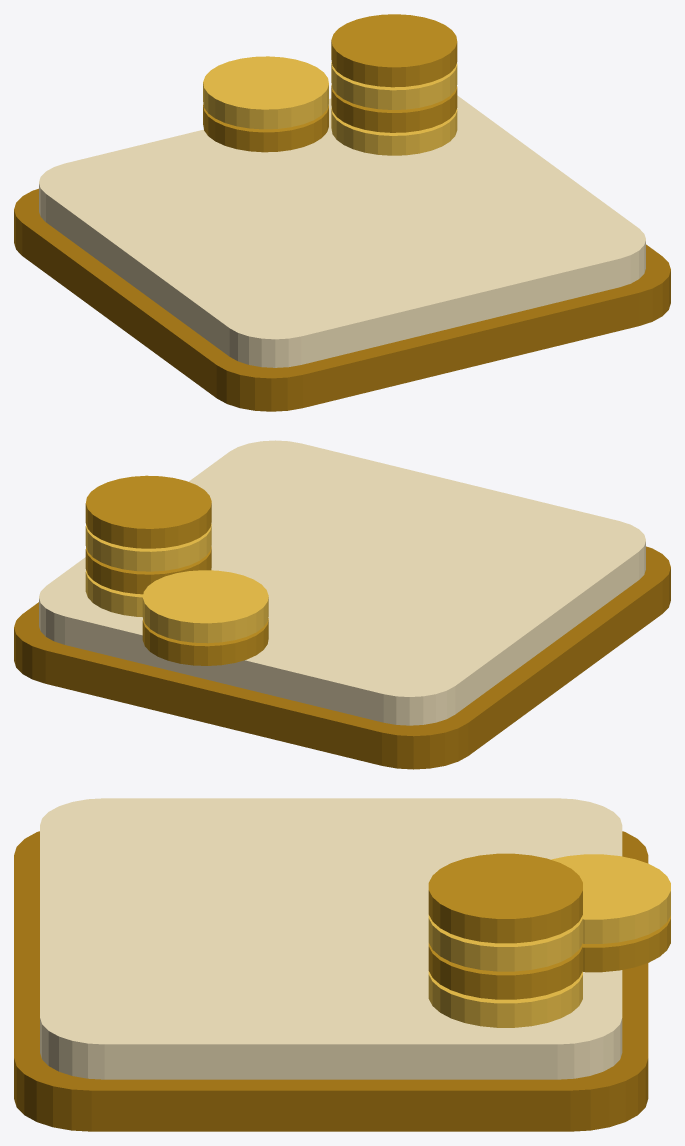
Rendered from tile_salary.glb.
The picture shows the model from 3 angles, top to bottom: view 1: azimuth 30°, elevation 25°; view 2: azimuth 150°, elevation 25°; view 3: azimuth 270°, elevation 25°; orthographic projection. The views are drawn at different scales.
Visible parts, largest first — view 1: base, plinth, prop_coin_3, prop_coin_b1, prop_coin_0, prop_coin_1, prop_coin_2, prop_coin_b0; view 2: base, plinth, prop_coin_b1, prop_coin_3, prop_coin_2, prop_coin_b0, prop_coin_1, prop_coin_0; view 3: base, plinth, prop_coin_3, prop_coin_b1, prop_coin_0, prop_coin_1, prop_coin_2, prop_coin_b0.
Part boxes in pixels (x1,y1,x2,y2): base: [39, 95, 645, 367]; plinth: [14, 188, 670, 411]; prop_coin_3: [331, 14, 457, 87]; prop_coin_b1: [203, 56, 328, 129]; prop_coin_0: [331, 108, 457, 155]; prop_coin_1: [331, 85, 457, 132]; prop_coin_2: [331, 62, 457, 109]; prop_coin_b0: [203, 104, 328, 152]; base: [39, 440, 645, 725]; plinth: [14, 546, 670, 769]; prop_coin_b1: [142, 570, 268, 643]; prop_coin_3: [85, 475, 211, 548]; prop_coin_2: [85, 524, 211, 571]; prop_coin_b0: [142, 618, 268, 665]; prop_coin_1: [85, 546, 211, 594]; prop_coin_0: [85, 569, 211, 616]; base: [40, 798, 622, 1079]; plinth: [14, 831, 648, 1131]; prop_coin_3: [428, 853, 582, 943]; prop_coin_b1: [551, 854, 670, 943]; prop_coin_0: [428, 971, 582, 1027]; prop_coin_1: [428, 943, 582, 999]; prop_coin_2: [428, 915, 582, 971]; prop_coin_b0: [583, 915, 670, 972].
Size of the model in its own units: 0.98 by 0.3156 by 1.02.
